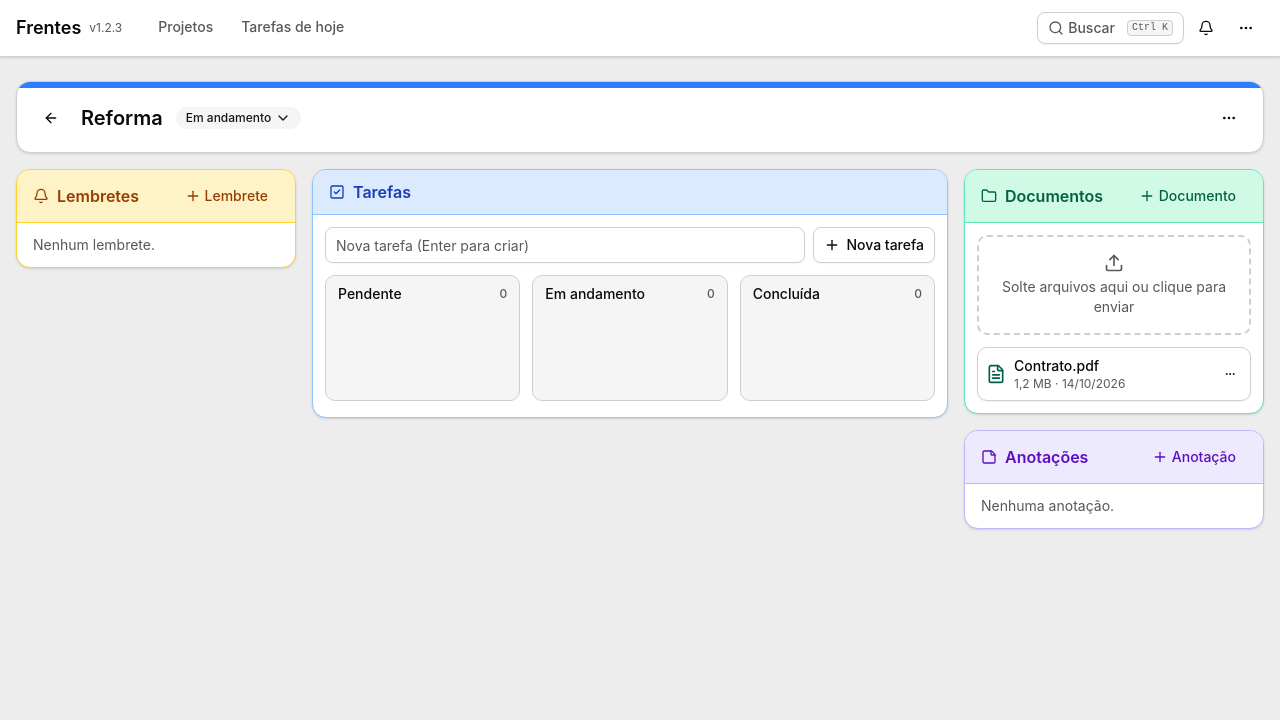
Test: Renomear e excluir (RN-72, RN-90) › nome com barra é recusado no formulário; 422 da API aparece no campo
The width and height of the screenshot is (1280, 720).
Click the button named "Ações de Contrato.pdf" at (1230, 374), box [1218,362,1242,386]
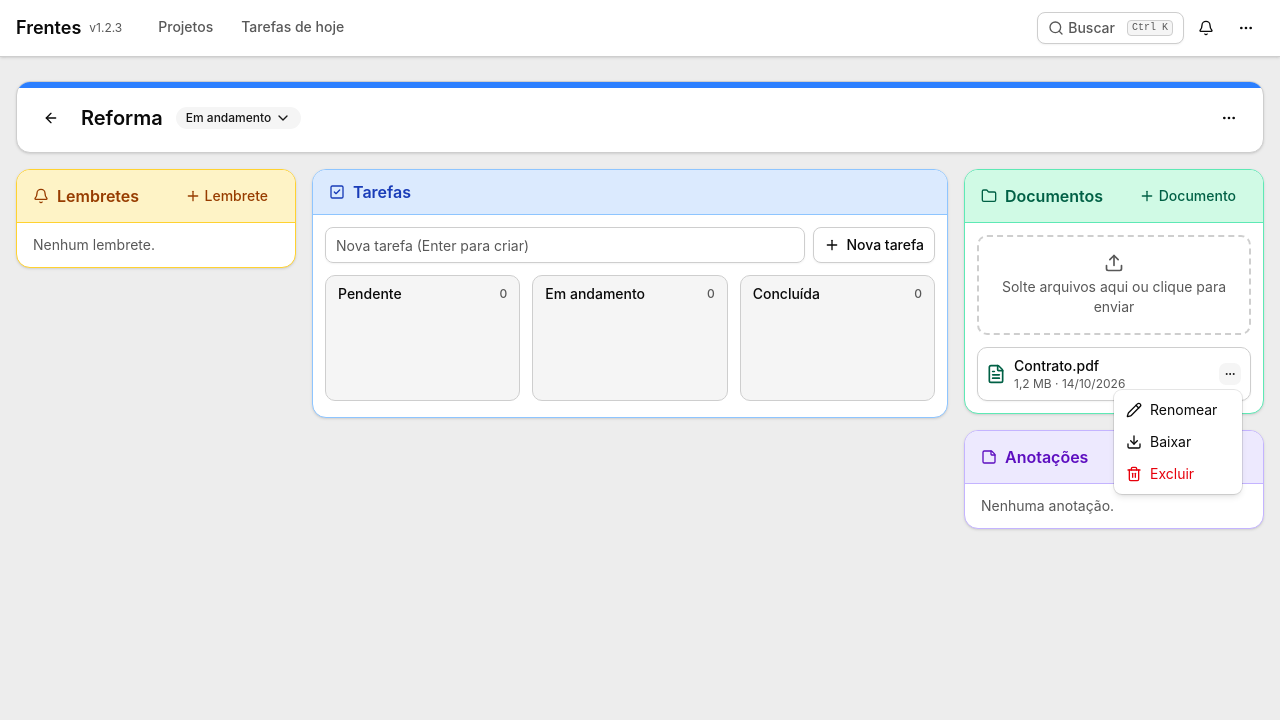
Click the menu item "Renomear" at (1172, 410), box [1126,401,1217,418]
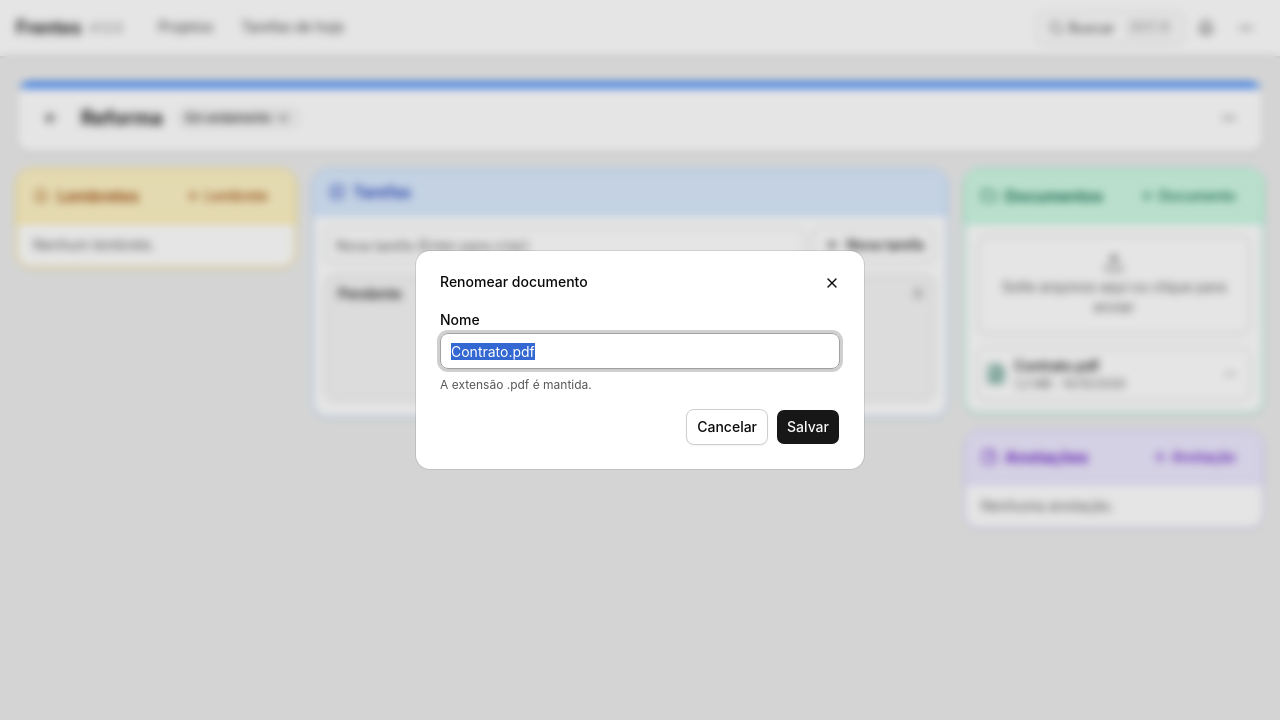
Replace the text in the field labelled "Nome" with "a/b" at (640, 351), box [440,333,840,369]
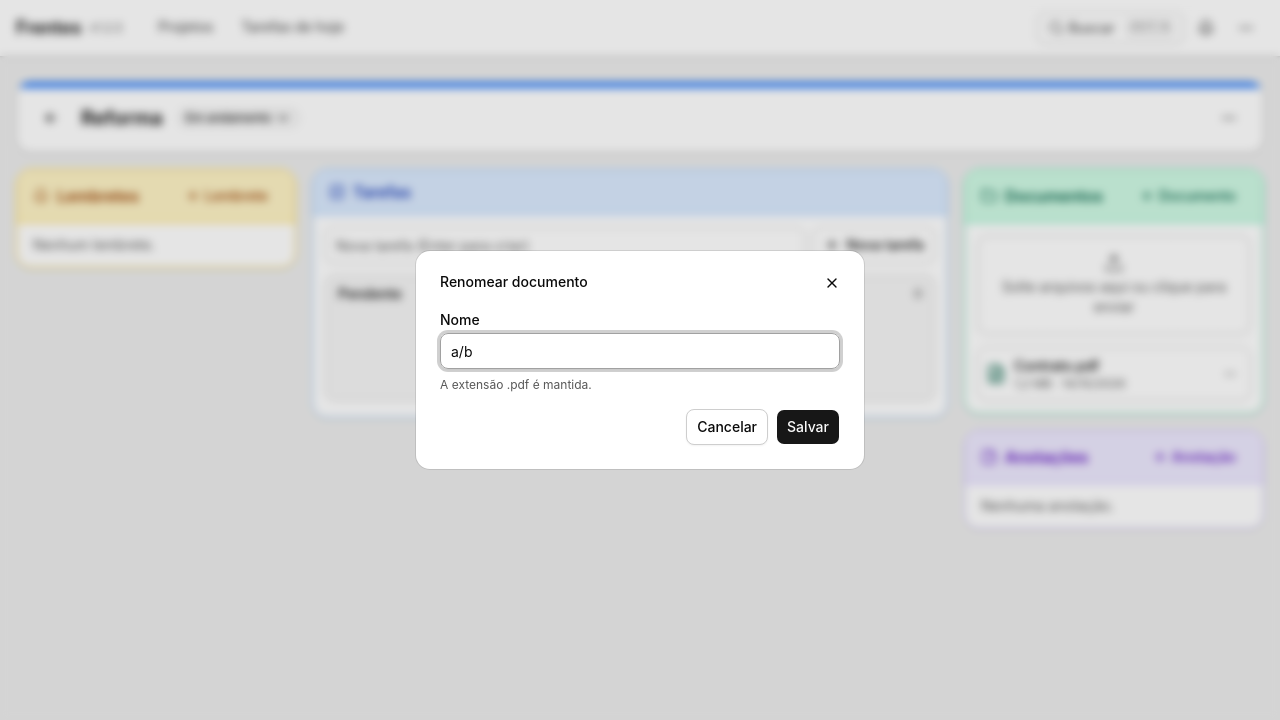
Click the button "Salvar" at (808, 427), box [776,409,840,445]
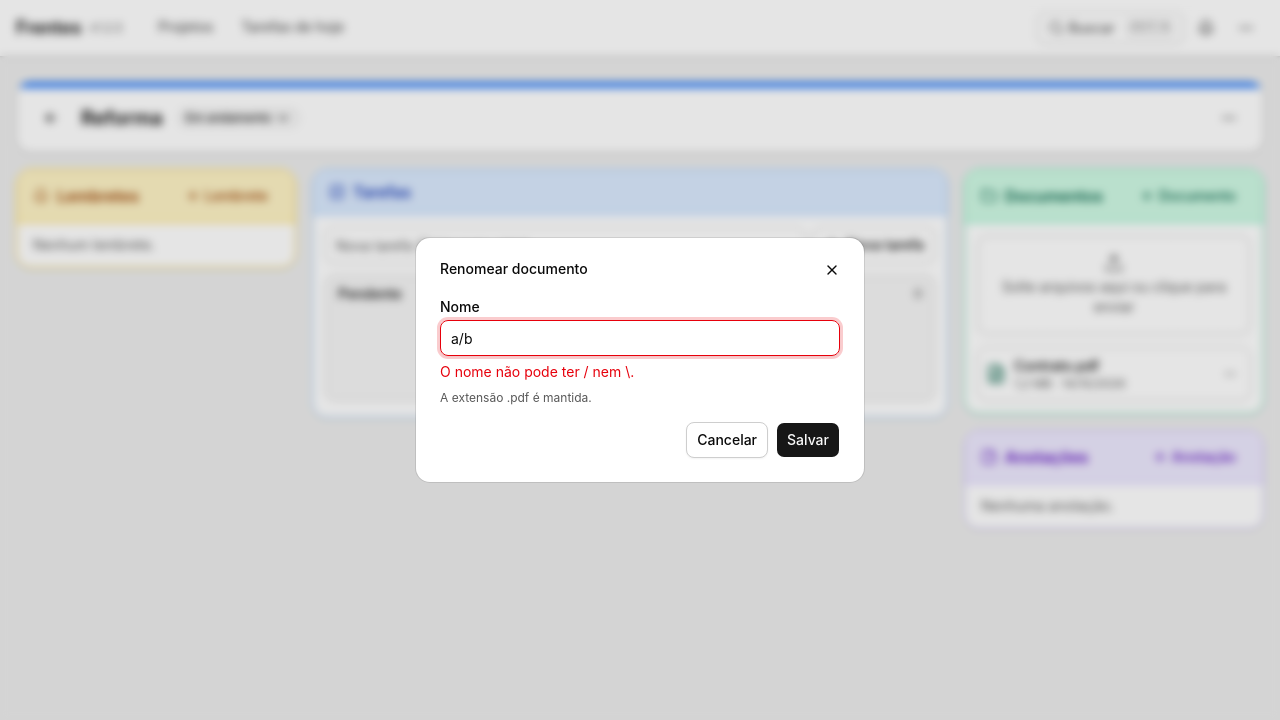
Result: the text "O nome não pode ter / nem \\." is shown at [440,363,634,380]
Replace the text in the field labelled "Nome" with "longo" at (640, 338), box [440,320,840,356]
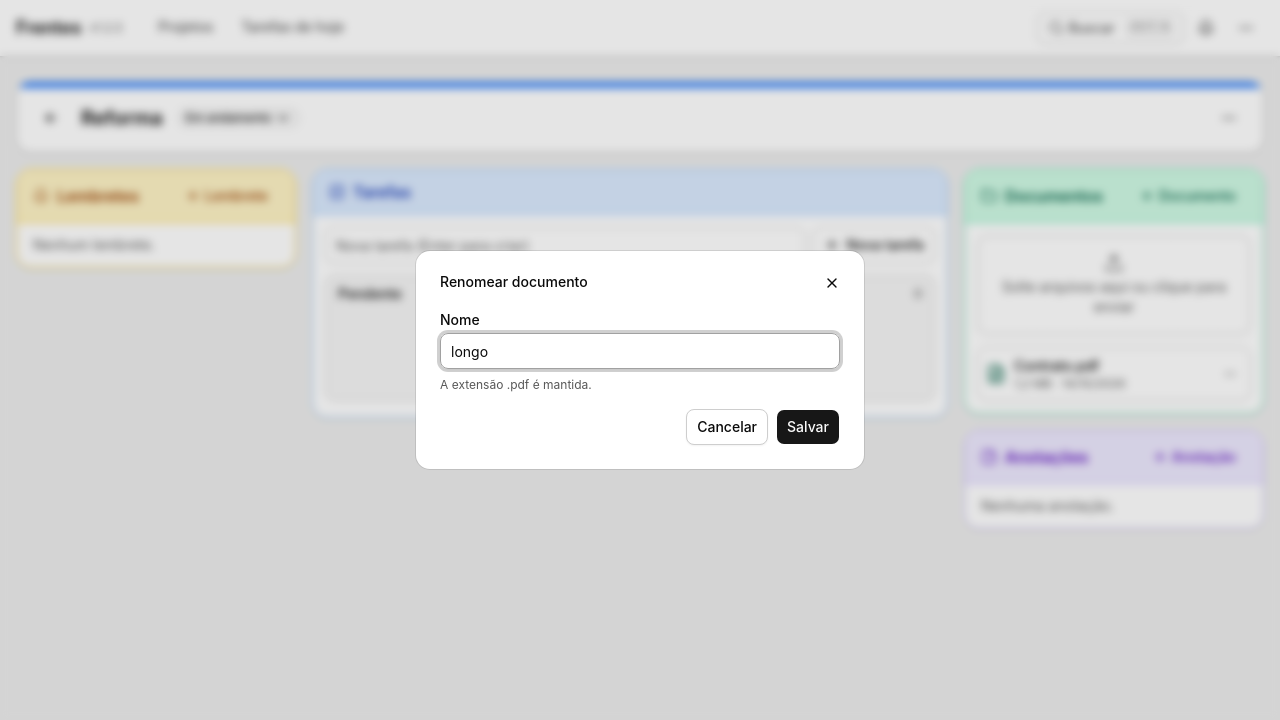
Click the button "Salvar" at (808, 427), box [776,409,840,445]
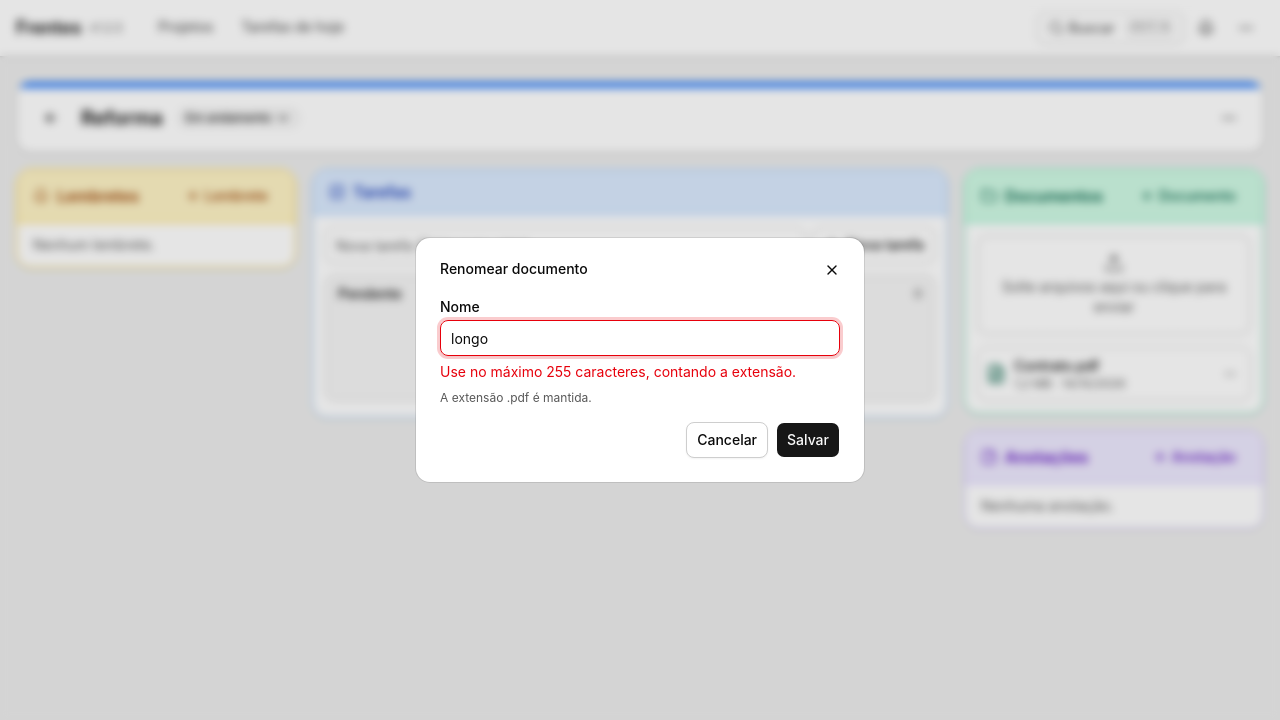
Result: the text "Use no máximo 255 caracteres, contando a extensão." is shown at [440,362,840,382]
